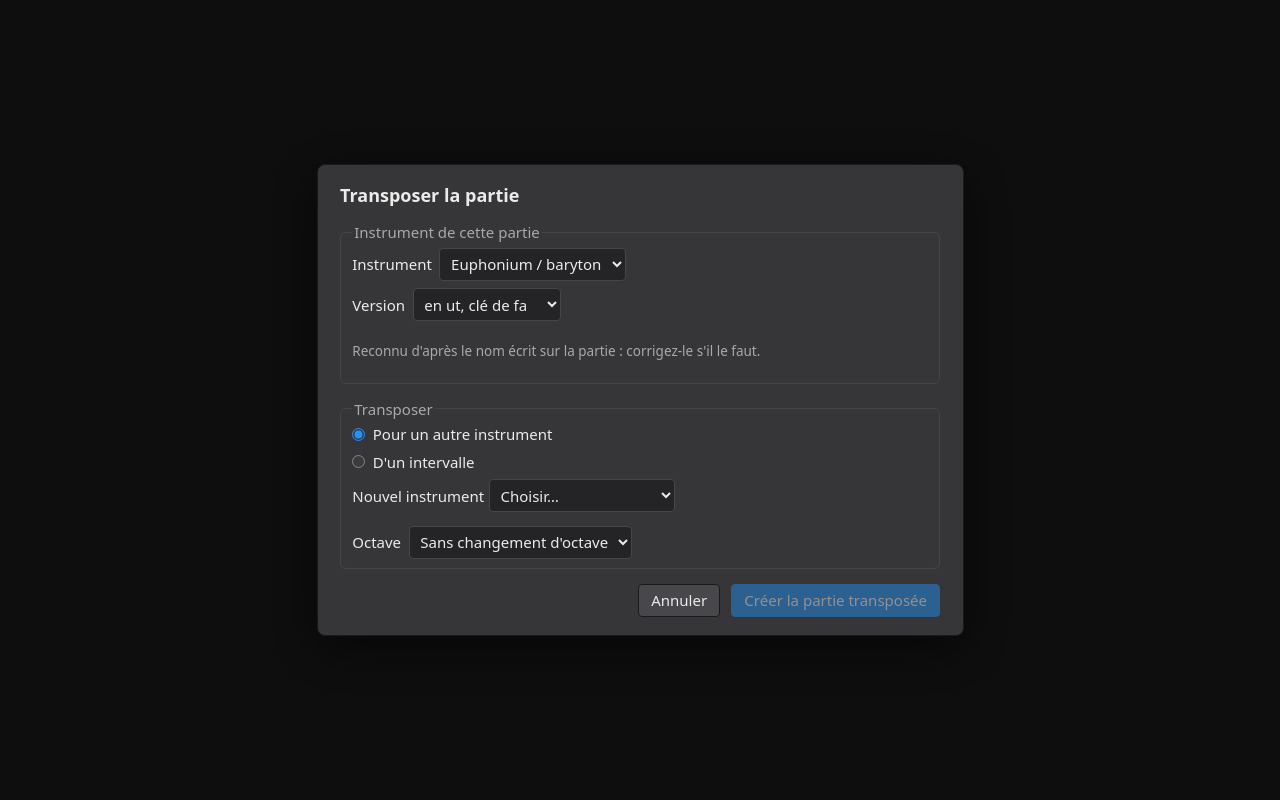
Test: TransposeDialog › conseille une octave quand des notes sortent de l’étendue
Check: the text "Reconnu d'après le nom" is shown, box x1=352 y1=342 x2=760 y2=360
Select "Tuba / basse" in the dropdown labelled "Nouvel instrument" at (582, 496), box x1=489 y1=479 x2=675 y2=512
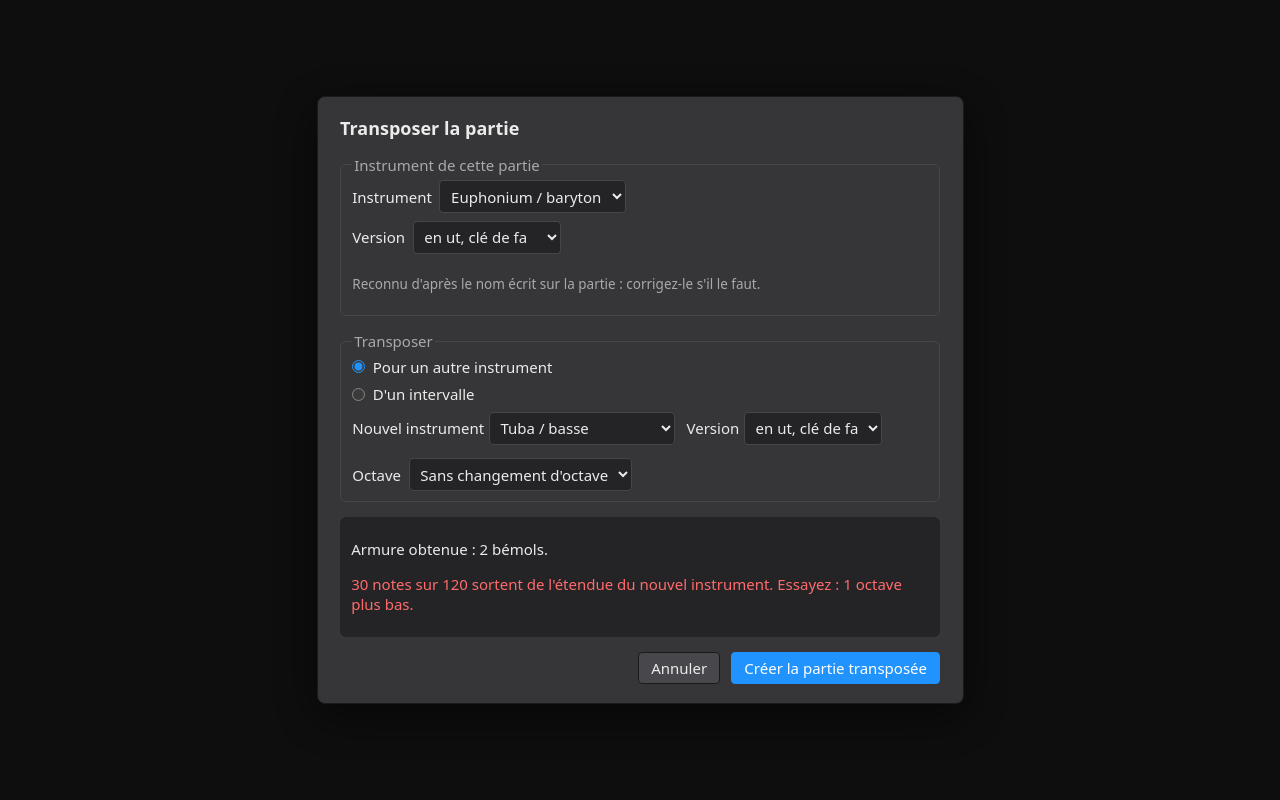
Check: the text "30 notes sur 120 sortent de l'étendue" shows "Essayez : 1 octave plus bas.", box x1=351 y1=574 x2=902 y2=614
Check: the text "Armure obtenue : 2 bémols." is shown, box x1=351 y1=539 x2=548 y2=559
